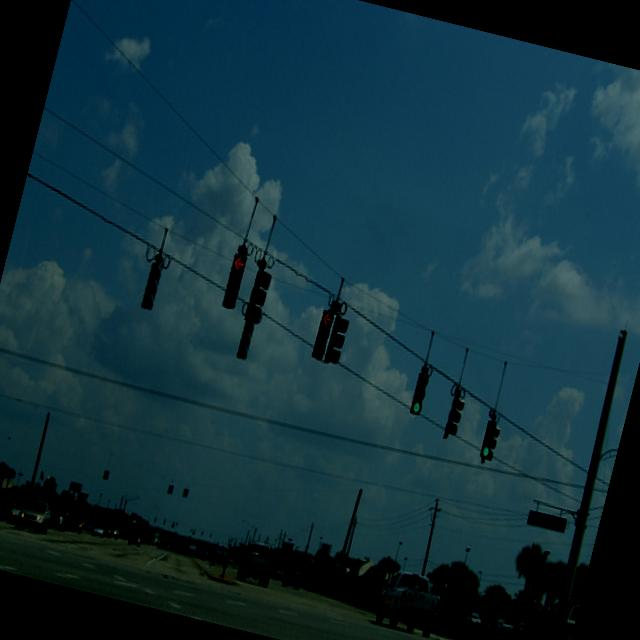Vehicle: (371, 564, 446, 640), (508, 589, 579, 640), (509, 589, 579, 640), (234, 536, 280, 590), (14, 497, 53, 535), (46, 502, 72, 533), (208, 542, 232, 570), (282, 564, 304, 590), (6, 499, 26, 527), (127, 532, 144, 548), (91, 522, 106, 538), (106, 524, 120, 540), (116, 528, 126, 540)
